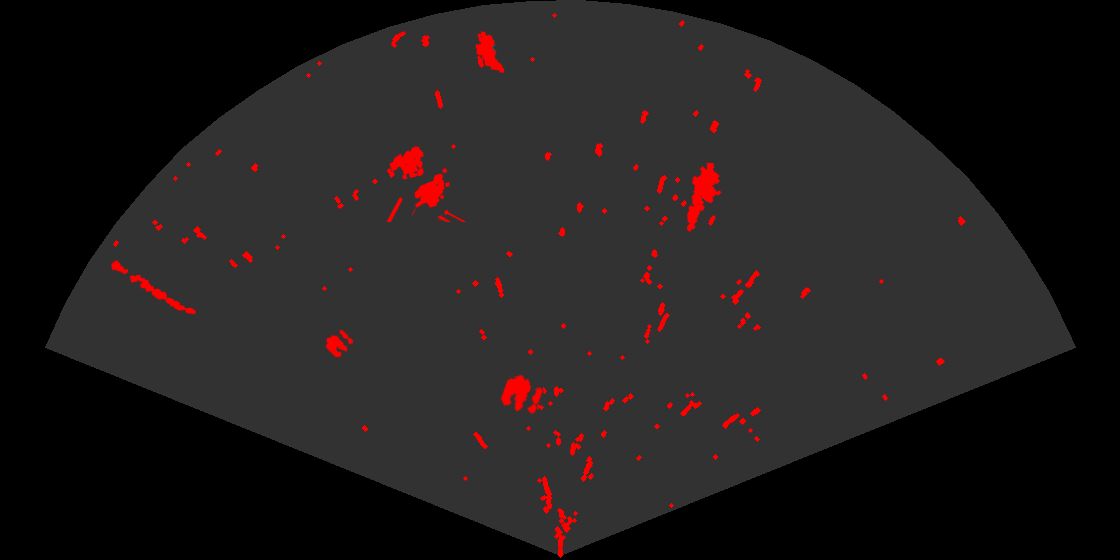AUV: (474, 30, 506, 75)
ball: (499, 373, 544, 416), (324, 328, 355, 359)
cage: (385, 145, 467, 222)
chain: (109, 259, 197, 316)
frogman: (685, 163, 723, 233)
